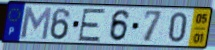0: (167, 11, 190, 44)
6: (108, 9, 131, 43), (49, 7, 72, 41)
7: (143, 10, 163, 44)
E: (76, 8, 108, 42)
M: (19, 5, 53, 41)
